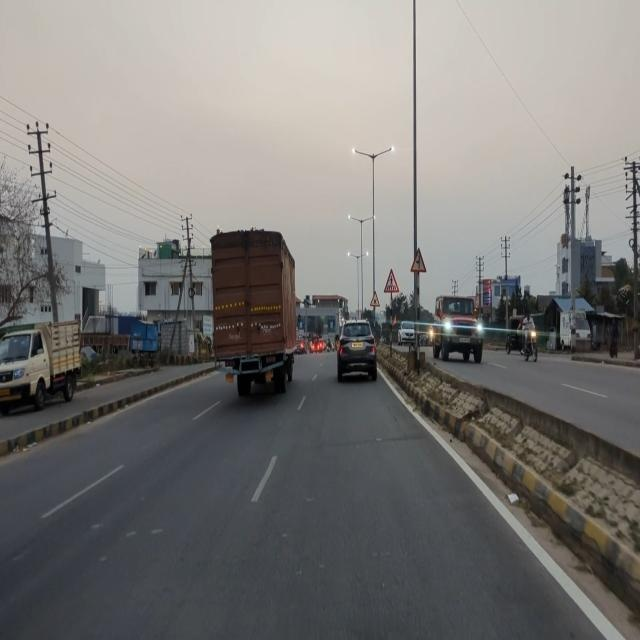bien_nguy_hiem: (409, 247, 426, 274), (384, 268, 399, 292), (370, 289, 380, 307)
